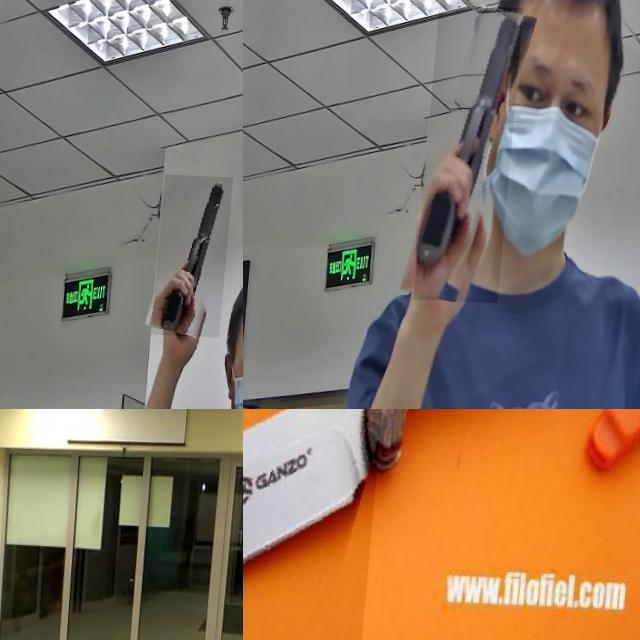-: (243, 409, 397, 640)
gun-knife-thesis - v11 Yolov5 augmented: (421, 2, 526, 300), (159, 173, 238, 335)
